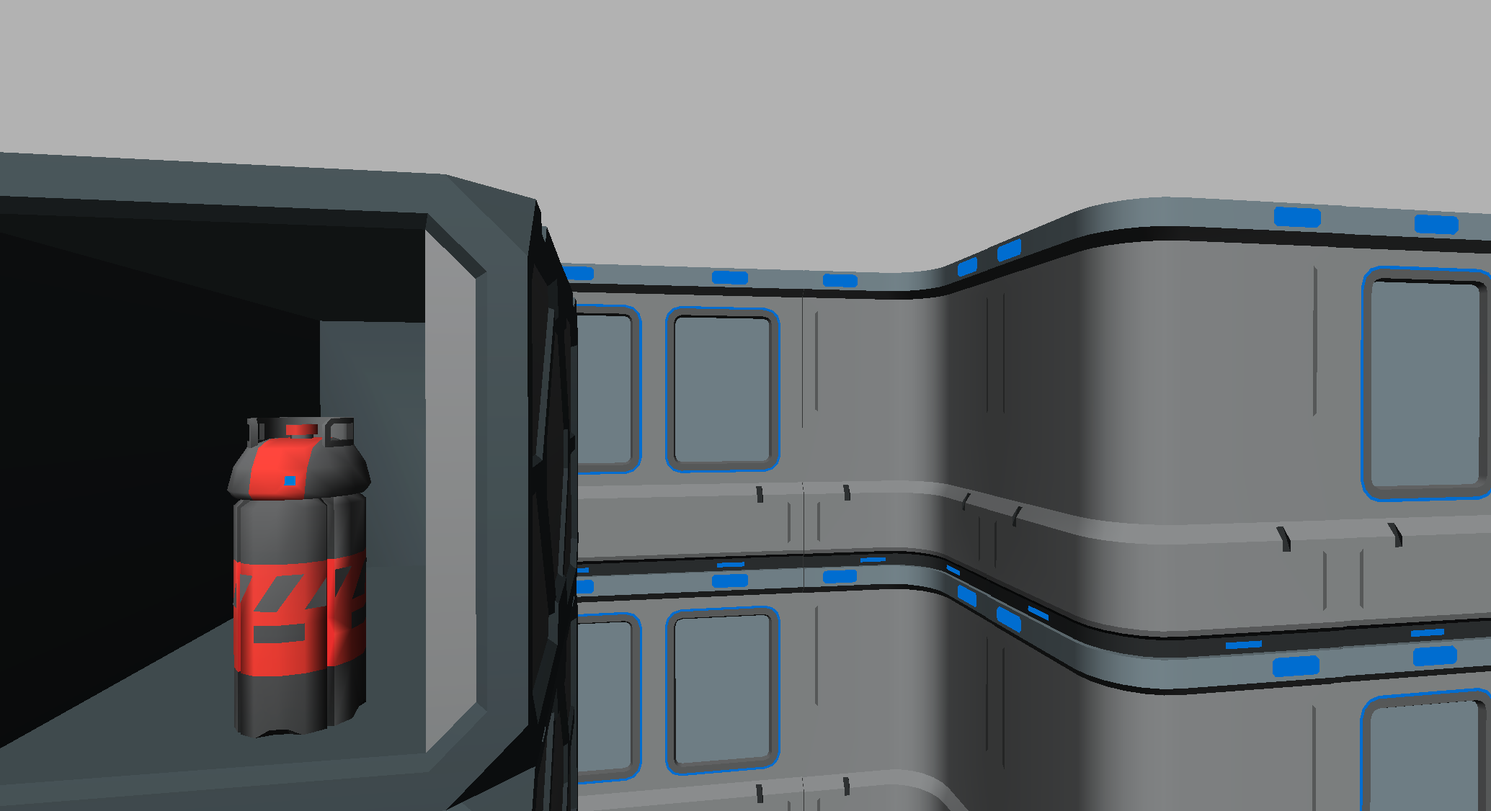red_barrel: (229, 418, 370, 736)
